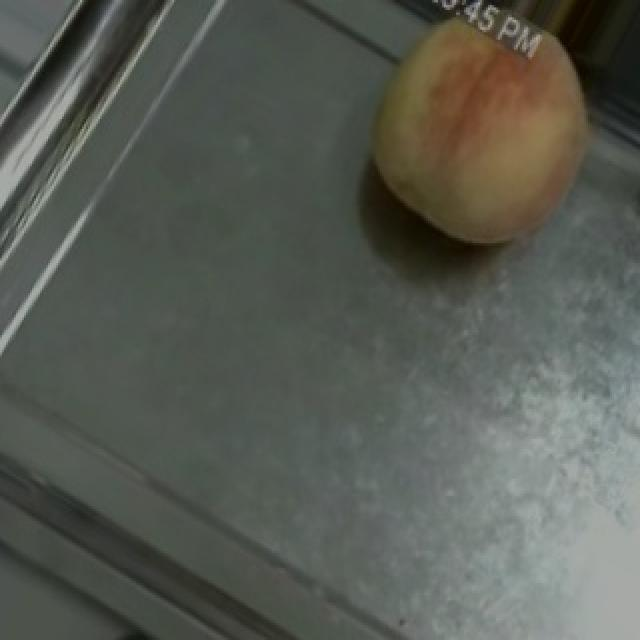Fruit: (322, 0, 632, 288)
